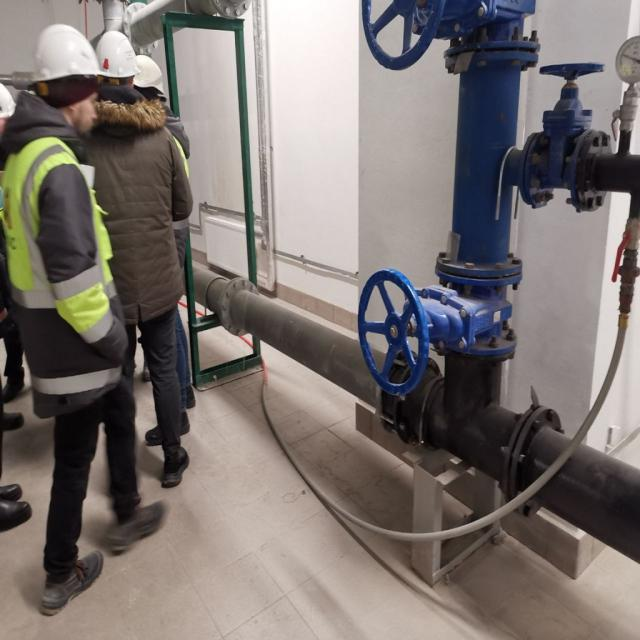Helmet: (31, 22, 102, 142), (97, 30, 139, 100), (129, 51, 167, 112), (1, 79, 16, 138)
